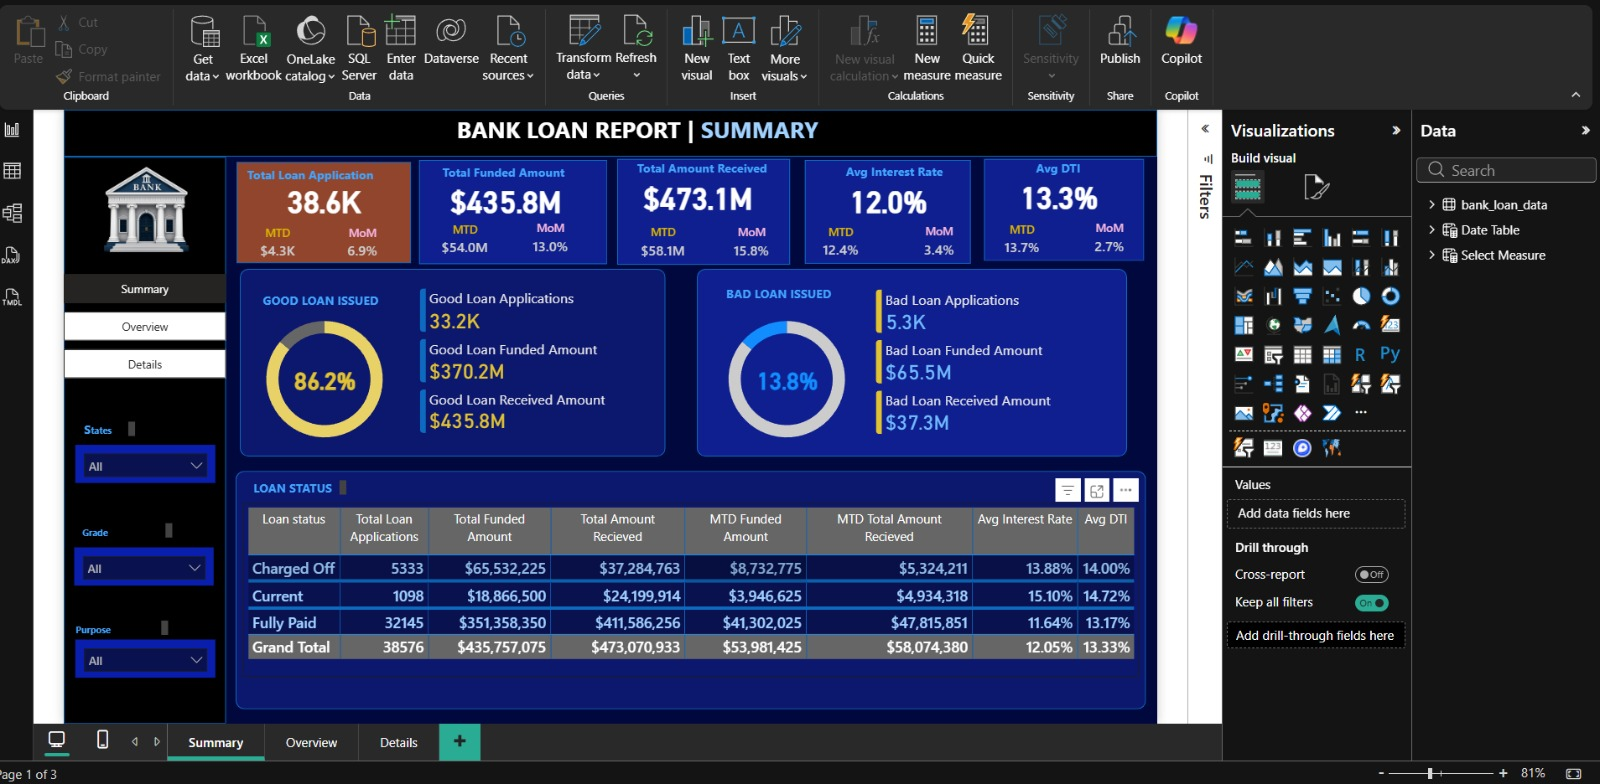

Layout of this report page (visuals, bound fields, positions):
{"tool":"powerbi","page":{"name":"Summary","canvas":[1280,720],"ordinal":0},"visuals":[{"type":"shape","box":[0,0,1280,55],"z":0},{"type":"shape","box":[647.4,57.6,202.4,124],"z":0,"group":"g4"},{"type":"shape","box":[1077.3,57.6,187.5,119.6],"z":0,"group":"g3"},{"type":"shape","box":[867,59.1,194.2,121.7],"z":0,"group":"g5"},{"type":"shape","box":[415.8,59.3,220.3,122.1],"z":0,"group":"g2"},{"type":"shape","box":[202.7,61,204.1,118.5],"z":0,"group":"g1"},{"type":"shape","box":[0,55.4,190,664.3],"z":1000},{"type":"card","fields":{"Values":["bank_loan_data.Avg DTI"]},"box":[1064.7,69.8,200.4,61.4],"z":1000,"group":"g3"},{"type":"card","fields":{"Values":["bank_loan_data.Total Amount Received"]},"box":[633.8,70.4,216.4,63.6],"z":1000,"group":"g4"},{"type":"card","fields":{"Values":["bank_loan_data.Total Funded Amount"]},"box":[400.4,75.1,235.3,60.9],"z":1000,"group":"g2"},{"type":"card","fields":{"Values":["bank_loan_data.Total Loan Applications"]},"box":[187.6,76.2,234.3,58.7],"z":1000,"group":"g1"},{"type":"card","fields":{"Values":["bank_loan_data.Avg Interest Rate"]},"box":[868.5,77,193.3,56.6],"z":1000,"group":"g5"},{"type":"textbox","box":[665.9,53.9,182.8,32.3],"z":2000,"group":"g4"},{"type":"textbox","box":[1094.3,53.9,172.4,31.4],"z":2000,"group":"g3"},{"type":"textbox","box":[906.3,57.5,138.8,29.7],"z":2000,"group":"g5"},{"type":"textbox","box":[430.7,59.3,202.8,31.1],"z":2000,"group":"g2"},{"type":"textbox","box":[209.4,61,180.9,30],"z":2000,"group":"g1"},{"type":"shape","box":[205.6,186.7,498.3,220],"z":2000},{"type":"textbox","box":[770.3,201.1,144.5,34.1],"z":2000,"group":"g7"},{"type":"textbox","box":[228.4,209,155.3,34.1],"z":2000,"group":"g6"},{"type":"textbox","box":[14.4,360.8,73.6,26.9],"z":2000,"group":"g9"},{"type":"textbox","box":[217.3,429.1,118.5,26.9],"z":2000,"group":"g8"},{"type":"textbox","box":[13.5,479.3,118.5,26.9],"z":2000,"group":"g10"},{"type":"textbox","box":[8.9,593.4,118.5,26.9],"z":2000,"group":"g11"},{"type":"card","title":"MTD","fields":{"Values":["bank_loan_data.MTD Avg DTI"]},"box":[1092.6,130.7,57.3,46.8],"z":3000,"group":"g3"},{"type":"card","title":"MTD","fields":{"Values":["bank_loan_data.MTD Funded Amount"]},"box":[426.9,131.3,85.5,46.3],"z":3000,"group":"g2"},{"type":"card","title":"MTD","fields":{"Values":["bank_loan_data.MTD Total Amount Recieved"]},"box":[661.1,133.1,80.5,49.4],"z":3000,"group":"g4"},{"type":"card","title":"MTD","fields":{"Values":["bank_loan_data.MTD Avg Int Rate"]},"box":[883,134,52.5,47.4],"z":3000,"group":"g5"},{"type":"card","title":"MTD","fields":{"Values":["bank_loan_data.MTD Loan Application"]},"box":[220.4,135,59.2,44.6],"z":3000,"group":"g1"},{"type":"card","fields":{"Values":["bank_loan_data.Good Loan %"]},"box":[255,295.4,101.4,42.2],"z":3000},{"type":"textbox","box":[455.2,0,453.3,55.4],"z":4000},{"type":"card","title":"MoM","fields":{"Values":["bank_loan_data.MoM Total Funded Amount"]},"box":[530.8,128.9,79.5,41.8],"z":4000,"group":"g2"},{"type":"card","title":"MoM","fields":{"Values":["bank_loan_data.MoM Avg DTI"]},"box":[1186.3,129.1,75.4,48.5],"z":4000,"group":"g3"},{"type":"card","title":"MoM","fields":{"Values":["bank_loan_data.MoMAvg Int Rate"]},"box":[992.9,132.7,61.9,48.5],"z":4000,"group":"g5"},{"type":"card","title":"MoM","fields":{"Values":["bank_loan_data.MoM Total Amount Recieved"]},"box":[766,133.1,76.8,49.4],"z":4000,"group":"g4"},{"type":"card","title":"MoM","fields":{"Values":["bank_loan_data.MoM Loan Application"]},"box":[319.9,135,59.2,44.6],"z":4000,"group":"g1"},{"type":"group","id":"g1","title":"Group 1","box":[187.6,61,234.3,118.5],"z":5000},{"type":"group","id":"g2","title":"Group 1","box":[400.4,59.3,233.4,122.1],"z":6000},{"type":"group","id":"g3","title":"Group 1","box":[1064.7,53.9,202,123.9],"z":7000},{"type":"group","id":"g4","title":"Group 1","box":[633.8,53.9,216.4,128.4],"z":8000},{"type":"group","id":"g5","title":"Group 1","box":[867,57.5,194.8,123.9],"z":9000},{"type":"shape","box":[740.6,186.7,503.6,220],"z":10000},{"type":"donutChart","fields":{"Category":["bank_loan_data.Good Vs Bad Loan"],"Y":["bank_loan_data.Total Loan Applications"]},"box":[210.1,226.2,191.2,180.4],"z":11000},{"type":"group","id":"g6","title":"Group 1","box":[228.4,209,155.3,34.1],"z":12000},{"type":"cardVisual","fields":{"Data":["bank_loan_data.Good Loan Applications","bank_loan_data.Good Loan Funded Amount","bank_loan_data.Good Loan Received Amount"]},"box":[400.4,192.1,317.8,205.6],"z":13000},{"type":"donutChart","fields":{"Category":["bank_loan_data.Good Vs Bad Loan"],"Y":["bank_loan_data.Total Loan Applications"]},"box":[751.4,226.2,191.2,180.4],"z":14000},{"type":"group","id":"g7","title":"Group 1","box":[770.3,201.1,144.5,34.1],"z":15000},{"type":"card","fields":{"Values":["bank_loan_data.Bad Loan %"]},"box":[796.3,295.4,101.4,42.2],"z":16000},{"type":"cardVisual","fields":{"Data":["bank_loan_data.Bad Loan Applications","bank_loan_data.Bad Loan Funded Amount","bank_loan_data.Bad Loan Received Amount"]},"box":[933.7,193.9,317.8,205.6],"z":17000},{"type":"shape","box":[201.1,423.7,1065.6,279.2],"z":18000},{"type":"tableEx","fields":{"Values":["bank_loan_data.loan_status","bank_loan_data.Total Loan Applications","bank_loan_data.Total Funded Amount","bank_loan_data.Total Amount Recieved","bank_loan_data.MTD Funded Amount","bank_loan_data.MTD Total Amount Recieved","bank_loan_data.Avg Interest Rate","bank_loan_data.Avg DTI"]},"box":[210.1,461.4,1048.6,203.8],"z":19000},{"type":"group","id":"g8","title":"Group 1","box":[217.3,429.1,118.5,26.9],"z":20000},{"type":"slicer","fields":{"Values":["bank_loan_data.address_state"]},"box":[13.5,393.2,164.3,44.9],"z":21000},{"type":"group","id":"g9","title":"Group 1","box":[14.4,360.8,73.6,26.9],"z":22000},{"type":"slicer","fields":{"Values":["bank_loan_data.grade"]},"box":[12.6,512.6,163.4,44.9],"z":23000},{"type":"group","id":"g10","title":"Group 1","box":[13.5,479.3,118.5,26.9],"z":24000},{"type":"slicer","fields":{"Values":["bank_loan_data.purpose"]},"box":[13.5,620.3,164.3,44.9],"z":25000},{"type":"group","id":"g11","title":"Group 1","box":[8.9,593.4,118.5,26.9],"z":26000},{"type":"pageNavigator","box":[0,193,190.3,122.1],"z":27000},{"type":"image","box":[24.2,61,144.5,107.7],"z":28000}]}

Visuals, with their boxes on the page's 1280x720 design canvas (x1, y1, x2, y2). These are canvas units, not pixel positions in the 1600x784 screenshot, which may show the page scaled, cropped or inside an application window:
shape: <region>0, 0, 1280, 55</region>
shape: <region>647, 58, 850, 182</region>
shape: <region>1077, 58, 1265, 177</region>
shape: <region>867, 59, 1061, 181</region>
shape: <region>416, 59, 636, 181</region>
shape: <region>203, 61, 407, 180</region>
shape: <region>0, 55, 190, 720</region>
card - bank_loan_data.Avg DTI: <region>1065, 70, 1265, 131</region>
card - bank_loan_data.Total Amount Received: <region>634, 70, 850, 134</region>
card - bank_loan_data.Total Funded Amount: <region>400, 75, 636, 136</region>
card - bank_loan_data.Total Loan Applications: <region>188, 76, 422, 135</region>
card - bank_loan_data.Avg Interest Rate: <region>868, 77, 1062, 134</region>
textbox: <region>666, 54, 849, 86</region>
textbox: <region>1094, 54, 1267, 85</region>
textbox: <region>906, 58, 1045, 87</region>
textbox: <region>431, 59, 634, 90</region>
textbox: <region>209, 61, 390, 91</region>
shape: <region>206, 187, 704, 407</region>
textbox: <region>770, 201, 915, 235</region>
textbox: <region>228, 209, 384, 243</region>
textbox: <region>14, 361, 88, 388</region>
textbox: <region>217, 429, 336, 456</region>
textbox: <region>14, 479, 132, 506</region>
textbox: <region>9, 593, 127, 620</region>
"MTD" card: <region>1093, 131, 1150, 178</region>
"MTD" card: <region>427, 131, 512, 178</region>
"MTD" card: <region>661, 133, 742, 182</region>
"MTD" card: <region>883, 134, 936, 181</region>
"MTD" card: <region>220, 135, 280, 180</region>
card - bank_loan_data.Good Loan %: <region>255, 295, 356, 338</region>
textbox: <region>455, 0, 908, 55</region>
"MoM" card: <region>531, 129, 610, 171</region>
"MoM" card: <region>1186, 129, 1262, 178</region>
"MoM" card: <region>993, 133, 1055, 181</region>
"MoM" card: <region>766, 133, 843, 182</region>
"MoM" card: <region>320, 135, 379, 180</region>
"Group 1" group: <region>188, 61, 422, 180</region>
"Group 1" group: <region>400, 59, 634, 181</region>
"Group 1" group: <region>1065, 54, 1267, 178</region>
"Group 1" group: <region>634, 54, 850, 182</region>
"Group 1" group: <region>867, 58, 1062, 181</region>
shape: <region>741, 187, 1244, 407</region>
donutChart - bank_loan_data.Good Vs Bad Loan x bank_loan_data.Total Loan Applications: <region>210, 226, 401, 407</region>
"Group 1" group: <region>228, 209, 384, 243</region>
cardVisual - bank_loan_data.Good Loan Applications x bank_loan_data.Good Loan Funded Amount: <region>400, 192, 718, 398</region>
donutChart - bank_loan_data.Good Vs Bad Loan x bank_loan_data.Total Loan Applications: <region>751, 226, 943, 407</region>
"Group 1" group: <region>770, 201, 915, 235</region>
card - bank_loan_data.Bad Loan %: <region>796, 295, 898, 338</region>
cardVisual - bank_loan_data.Bad Loan Applications x bank_loan_data.Bad Loan Funded Amount: <region>934, 194, 1252, 400</region>
shape: <region>201, 424, 1267, 703</region>
tableEx - bank_loan_data.loan_status x bank_loan_data.Total Loan Applications: <region>210, 461, 1259, 665</region>
"Group 1" group: <region>217, 429, 336, 456</region>
slicer - bank_loan_data.address_state: <region>14, 393, 178, 438</region>
"Group 1" group: <region>14, 361, 88, 388</region>
slicer - bank_loan_data.grade: <region>13, 513, 176, 558</region>
"Group 1" group: <region>14, 479, 132, 506</region>
slicer - bank_loan_data.purpose: <region>14, 620, 178, 665</region>
"Group 1" group: <region>9, 593, 127, 620</region>
pageNavigator: <region>0, 193, 190, 315</region>
image: <region>24, 61, 169, 169</region>
